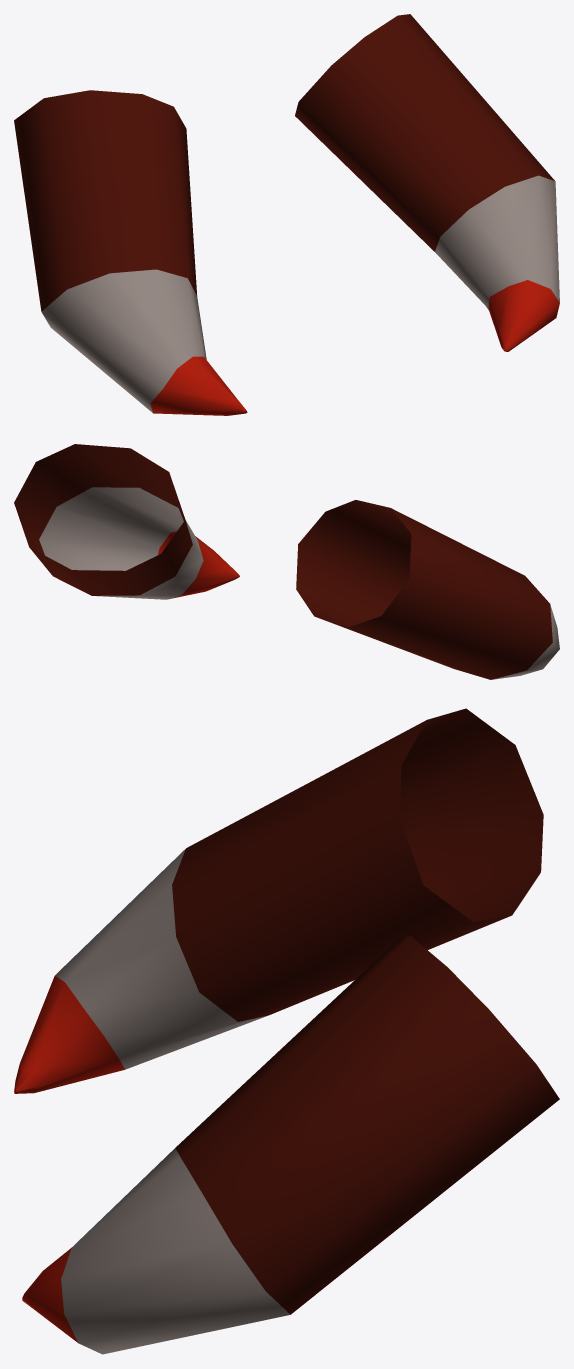
File: Mouth_Fangs.glb
The picture shows the model from 3 angles, top to bottom: view 1: azimuth 30°, elevation 25°; view 2: azimuth 150°, elevation 25°; view 3: azimuth 270°, elevation 25°; orthographic projection. The views are drawn at different scales.
Parts seen in each view (by area): view 1: Mouth_Fangs; view 2: Mouth_Fangs; view 3: Mouth_Fangs.
Part boxes in pixels (x1,y1,x2,y2): Mouth_Fangs: (14, 14, 559, 415); Mouth_Fangs: (14, 444, 559, 679); Mouth_Fangs: (14, 708, 559, 1354).
Size of the model in its own units: 0.5315 by 0.2396 by 0.3152.
Materials: 1 (1 with a texture image).
